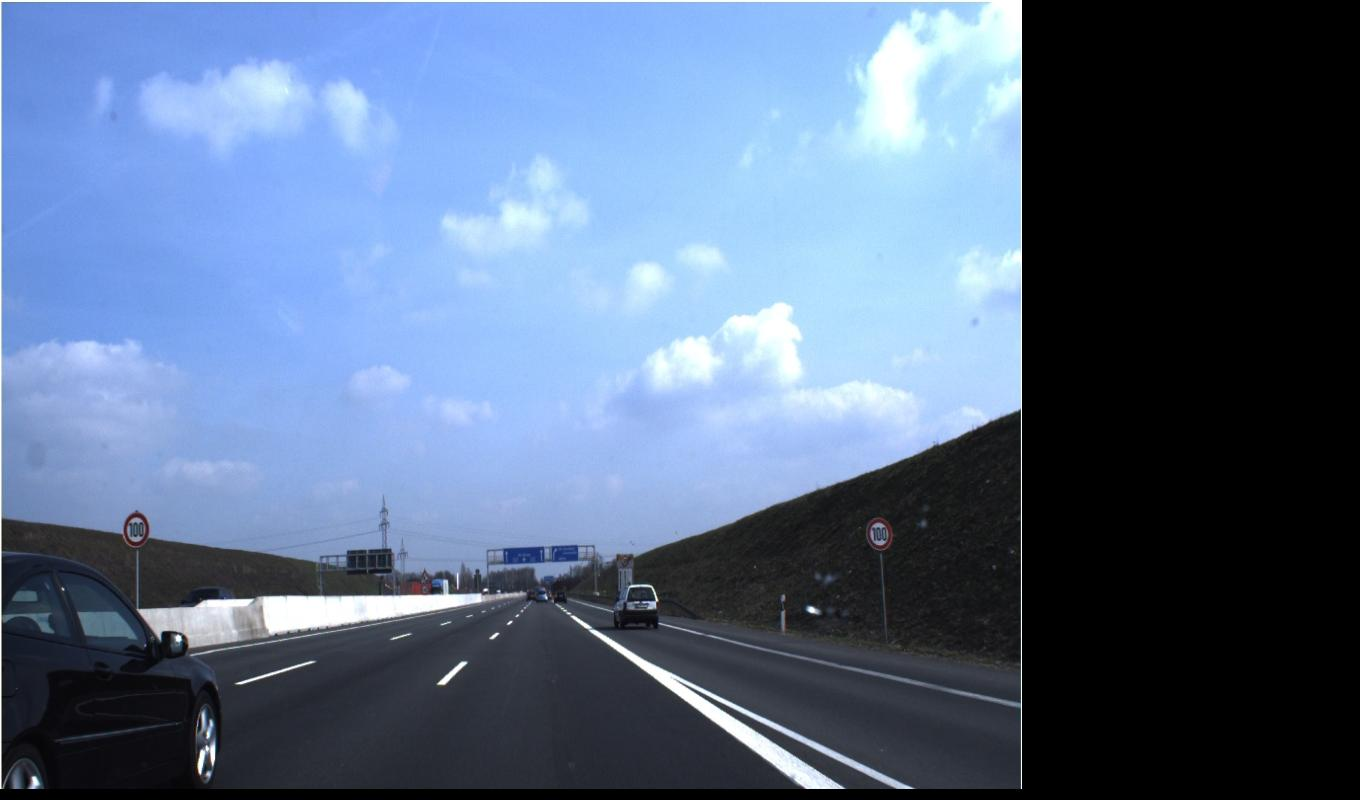speed limit 100: (123, 511, 892, 551)
